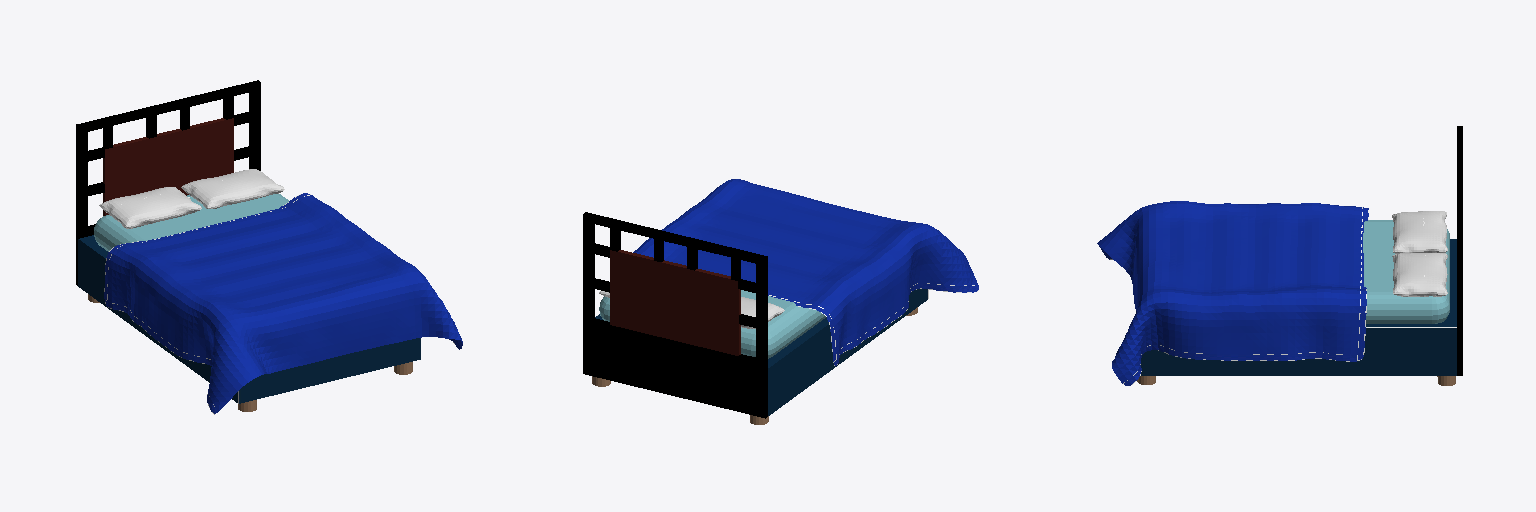
The picture shows the model from 3 angles: view 1: azimuth 30°, elevation 25°; view 2: azimuth 150°, elevation 25°; view 3: azimuth 270°, elevation 25°; orthographic projection.
Parts seen in each view (by area): view 1: pPlane2; view 2: pPlane2; view 3: pPlane2.
Part boxes in pixels (left/top/right/bottom): pPlane2: left=76, top=80, right=462, bottom=414; pPlane2: left=583, top=179, right=978, bottom=424; pPlane2: left=1097, top=126, right=1462, bottom=385.
Bounding box in the file's own units: 4.75 × 3.08 × 5.94.
8 materials, 6 textured.